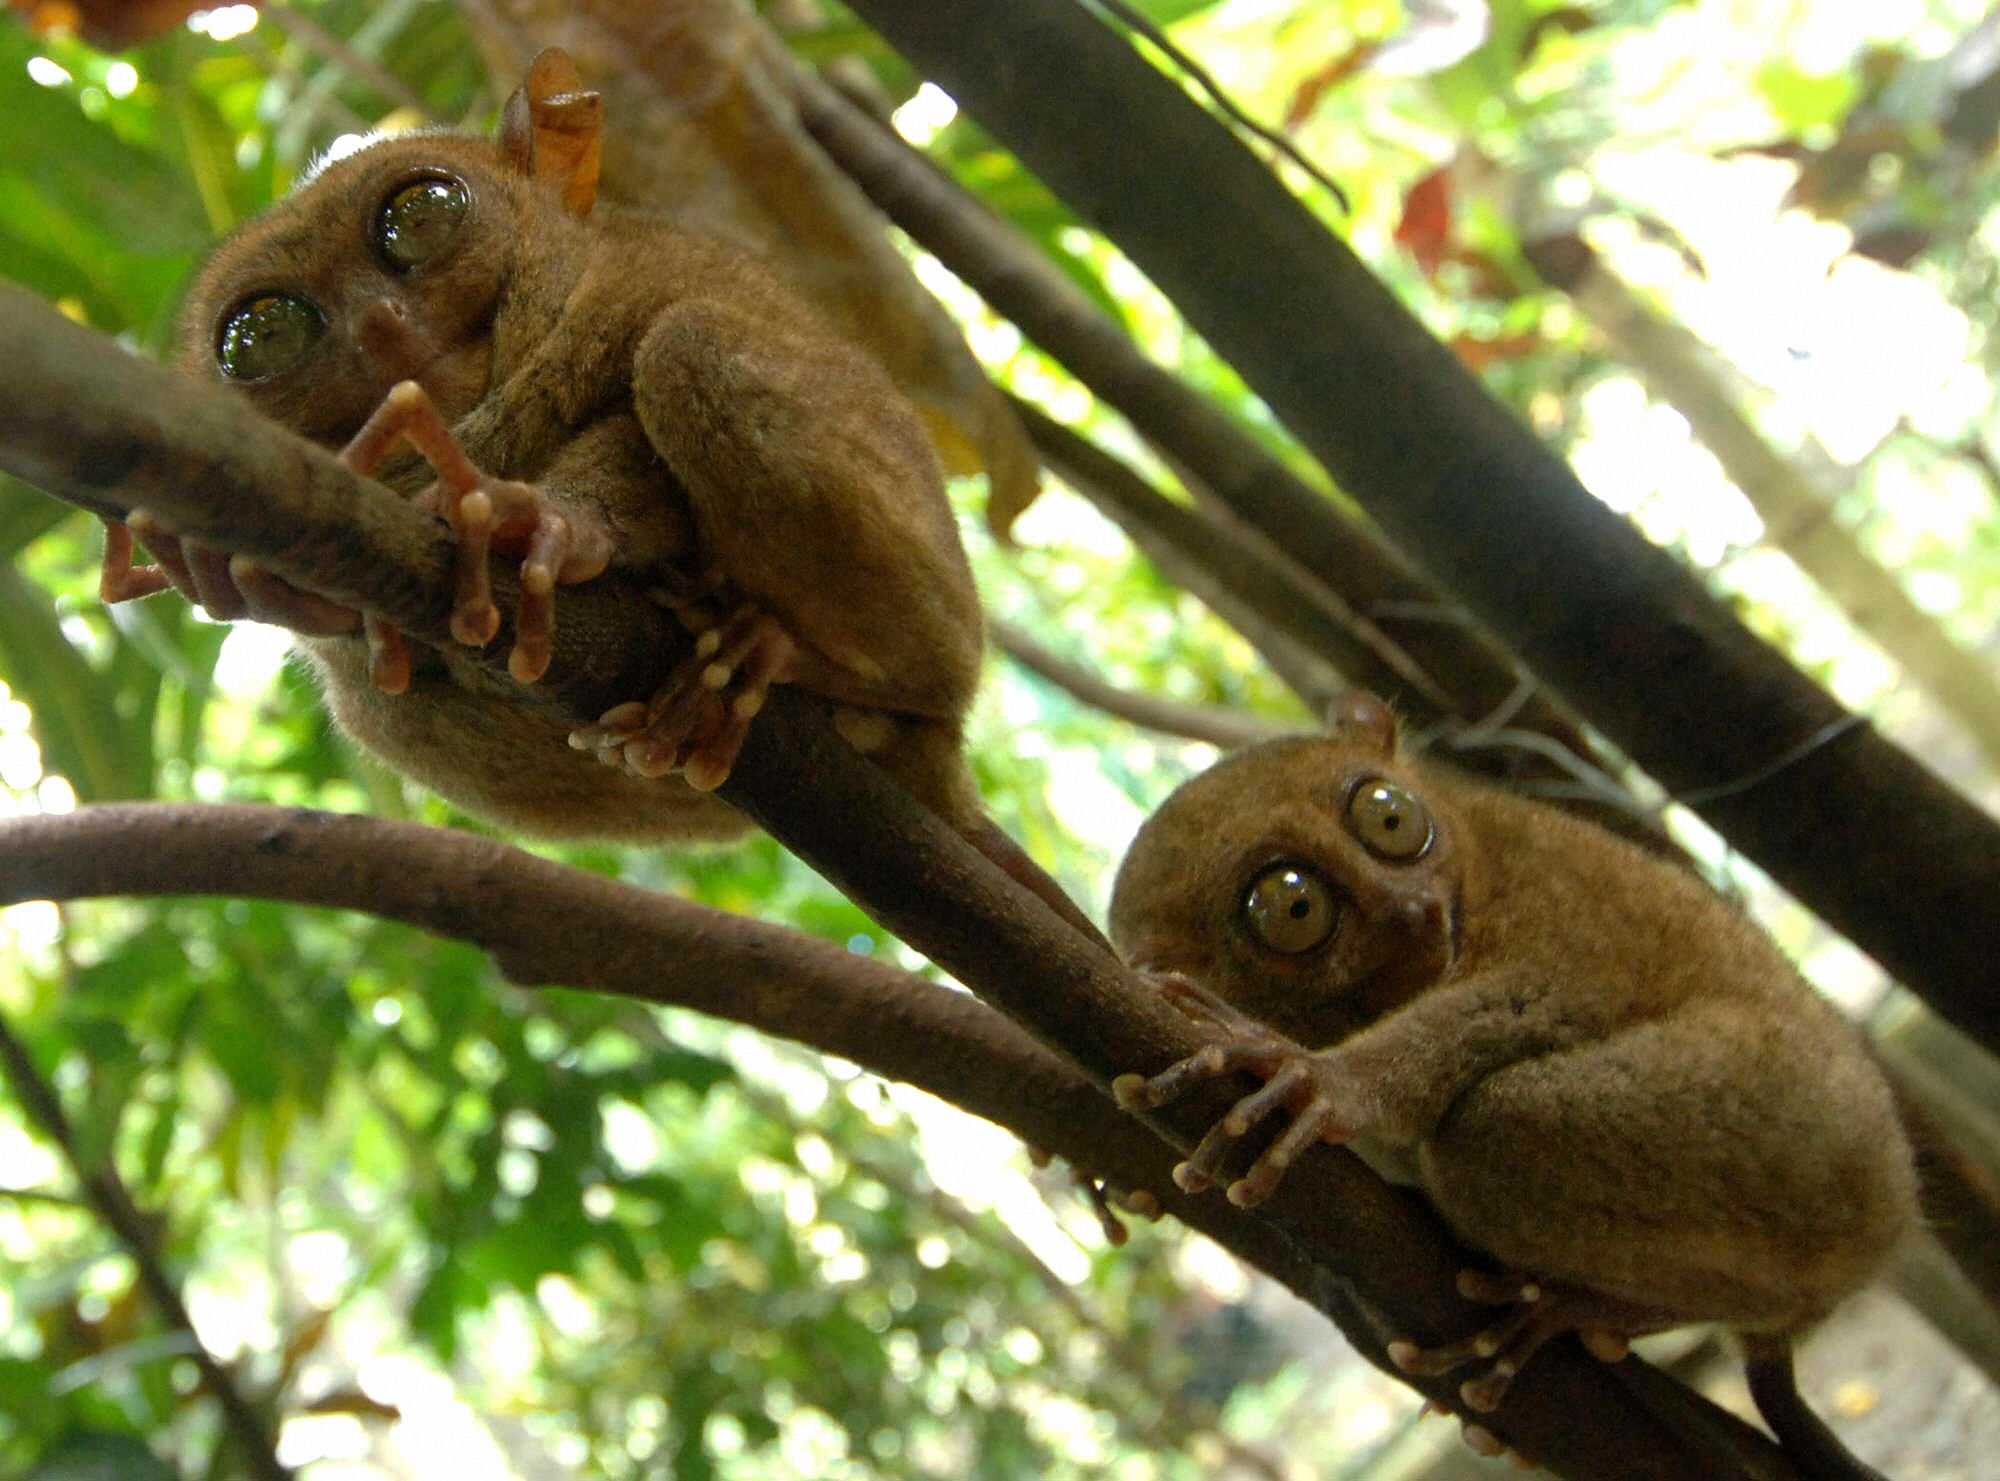tarsier: (103, 36, 995, 856), (1073, 681, 1930, 1344)
